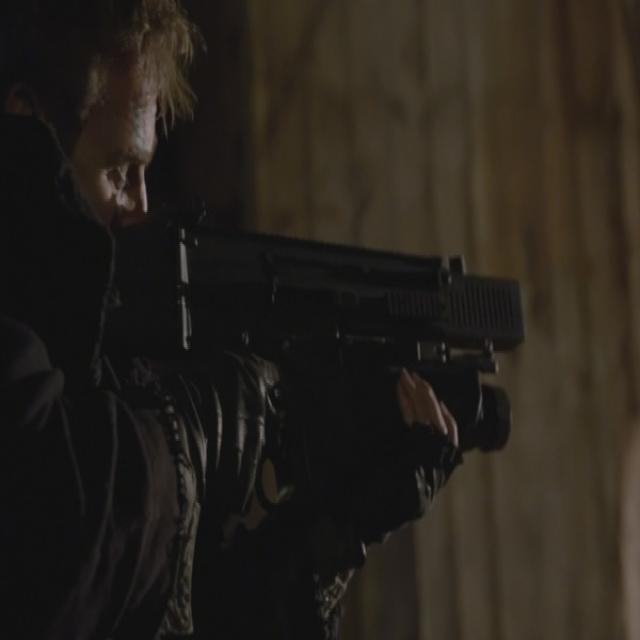rifle: (107, 193, 536, 569)
